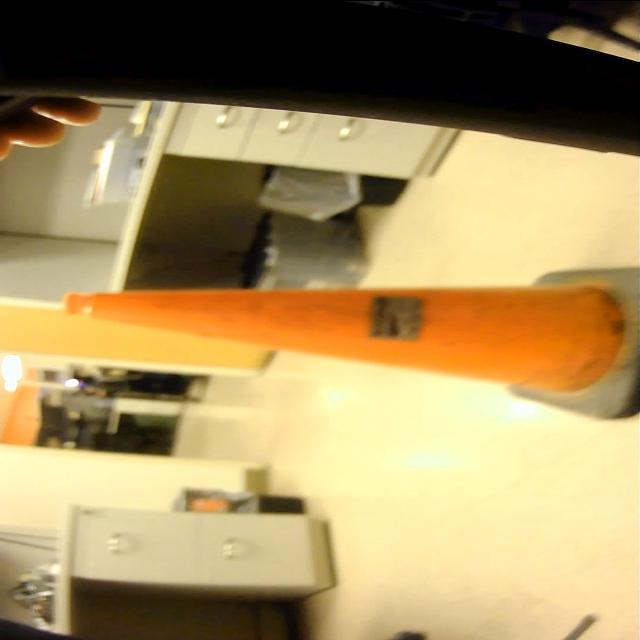traffic cone: (50, 259, 640, 426)
